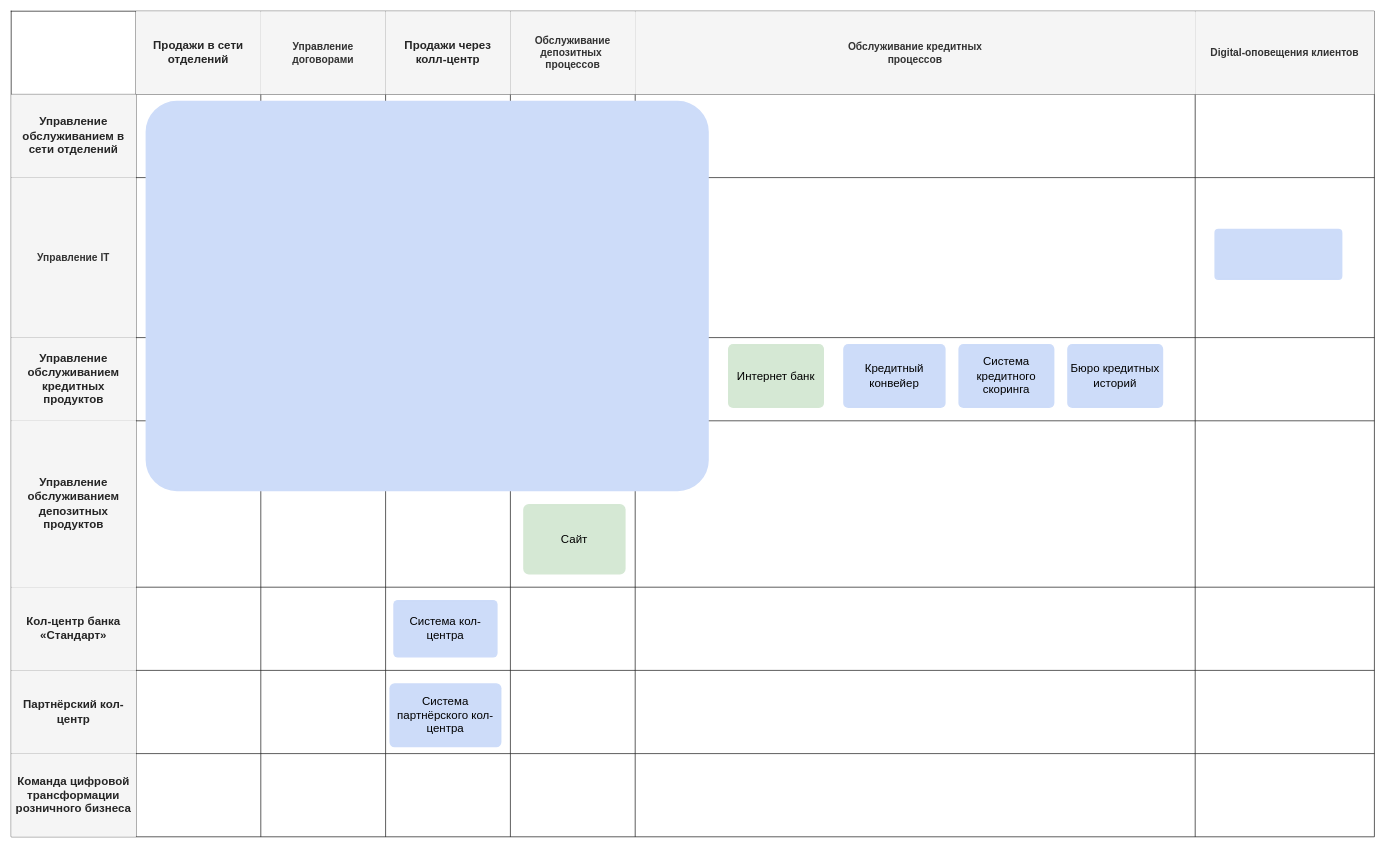
Some shapes in this 1386 by 848 pixel diagram are drawn without their labels. Here are the shapes that lost their labels. From the top down, the centre of each, then its label:
(1278,254): СМС-шлюз телеком-оператора
(426,295): АБС
